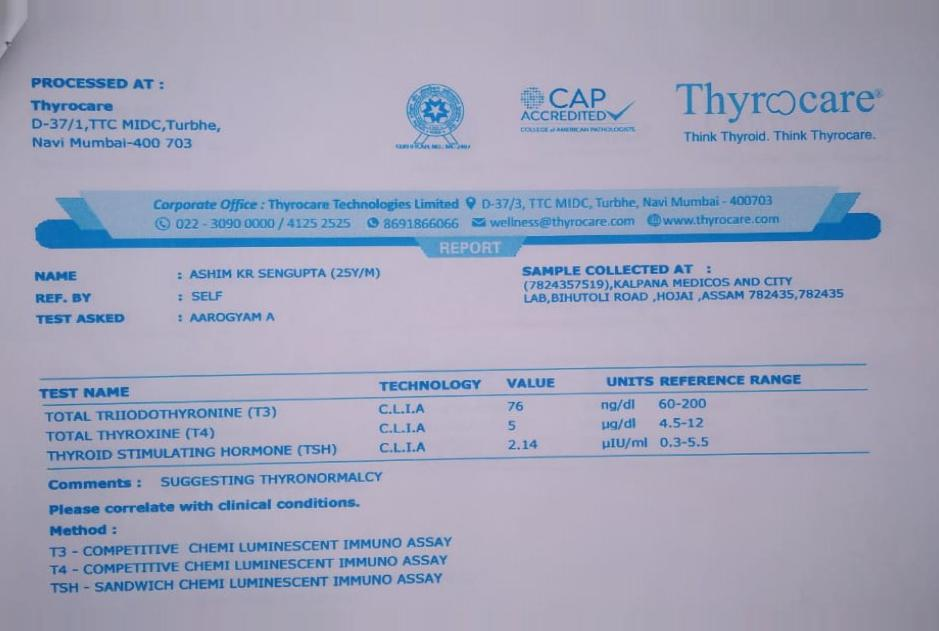Reference Range: (652, 391, 715, 456)
Test Name: (37, 401, 343, 469)
Units: (594, 393, 652, 455)
Value: (500, 394, 545, 457)
